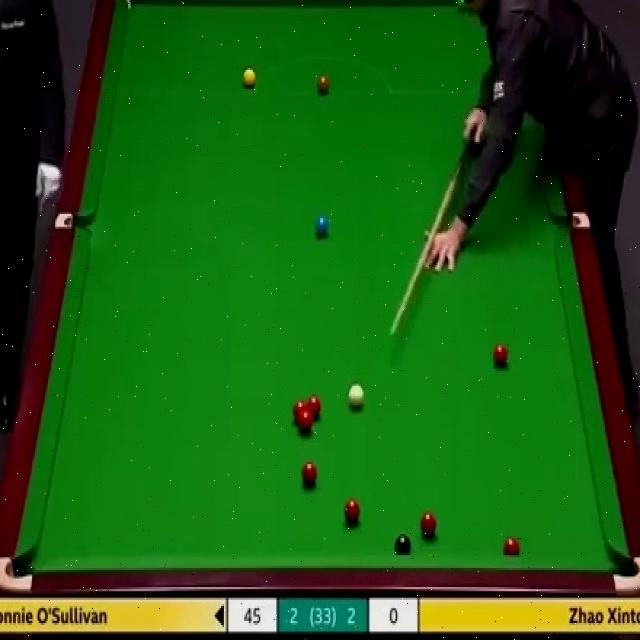black-ball: (395, 533, 412, 556)
blue-ball: (315, 215, 331, 239)
brown-ball: (317, 72, 329, 94)
green-ball: (455, 0, 467, 11)
red-ball: (419, 512, 438, 541), (302, 457, 320, 487), (344, 497, 362, 527), (292, 400, 308, 427), (492, 344, 508, 369), (501, 535, 521, 554), (308, 396, 322, 421), (299, 414, 314, 435)
white-ball: (347, 382, 364, 409)
yellow-ball: (242, 70, 255, 88)
